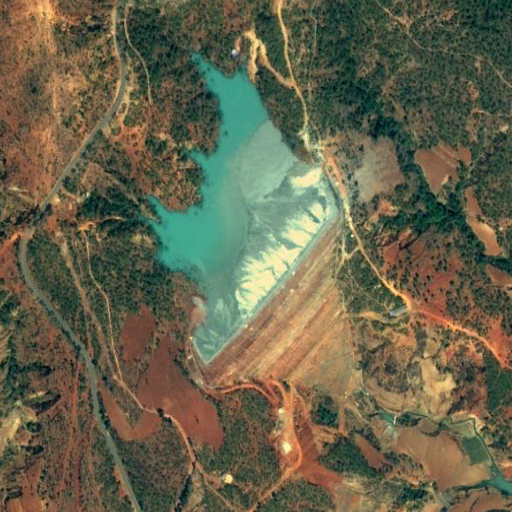tp: (146, 48, 362, 396)
